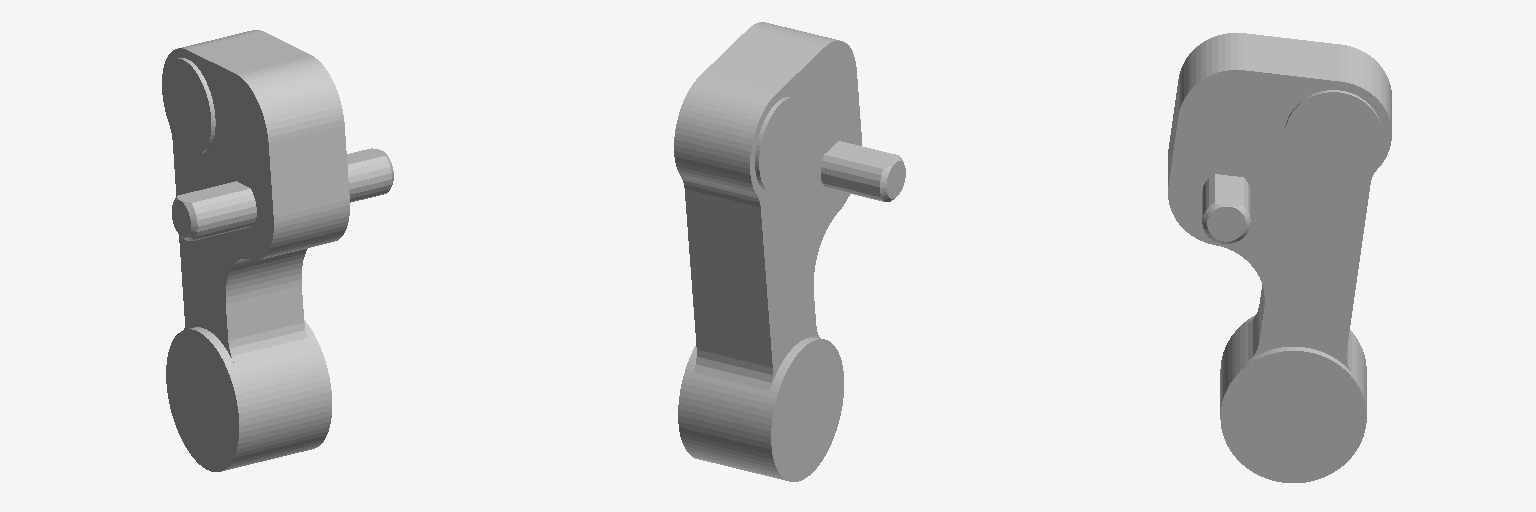
The model's file is robotiq_arg2f_85_outer_knuckle.obj.
The picture shows the model from 3 angles: view 1: azimuth 30°, elevation 25°; view 2: azimuth 150°, elevation 25°; view 3: azimuth 270°, elevation 25°; orthographic projection.
Visible parts, largest first — view 1: shape0-lib; view 2: shape0-lib; view 3: shape0-lib.
Part boxes in pixels (x1,y1,x2,y2): shape0-lib: (162,30,393,471); shape0-lib: (674,22,905,481); shape0-lib: (1168,33,1391,482).
Size of the model in its own units: 0.024 by 0.0463 by 0.0229.